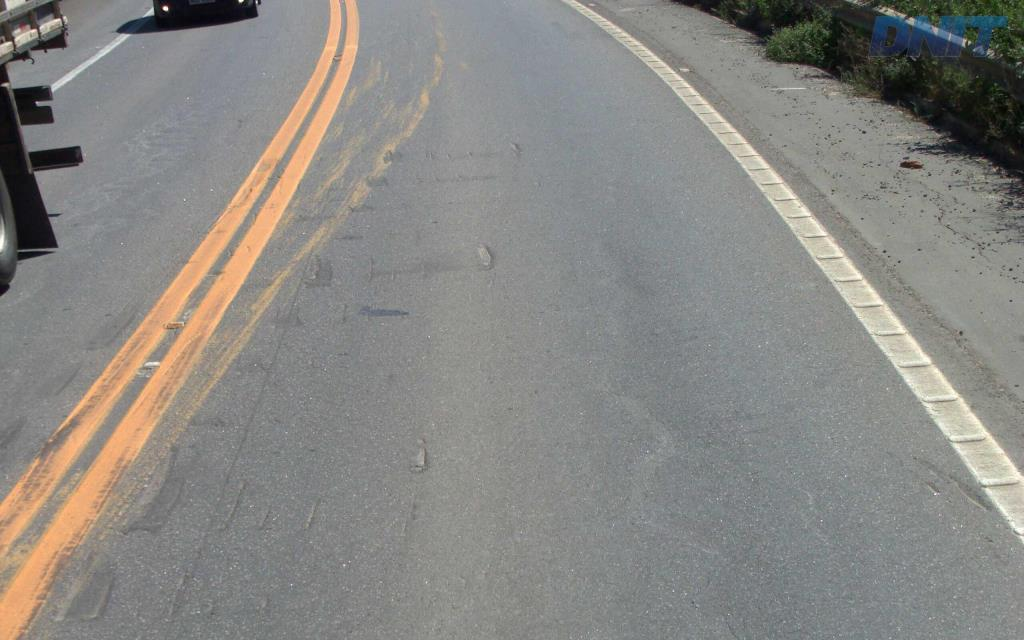pothole: (469, 237, 502, 273), (406, 439, 431, 473)
